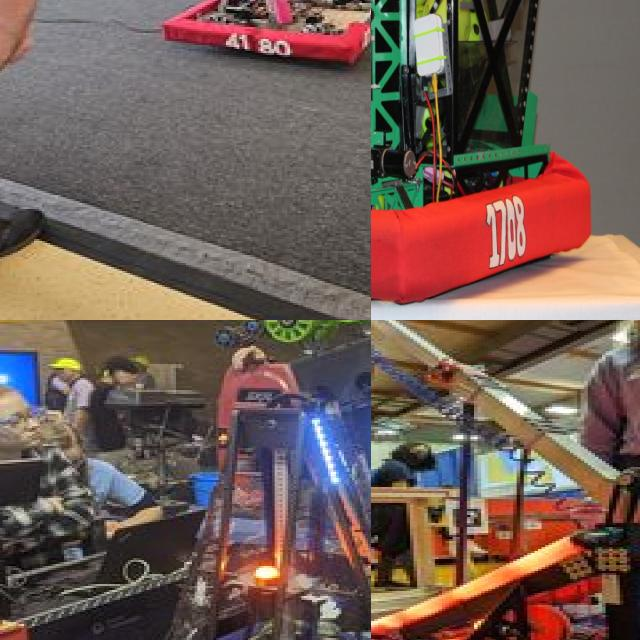FRC-Robots: (100, 320, 371, 640), (371, 320, 640, 640), (371, 0, 600, 308), (140, 0, 371, 74)
